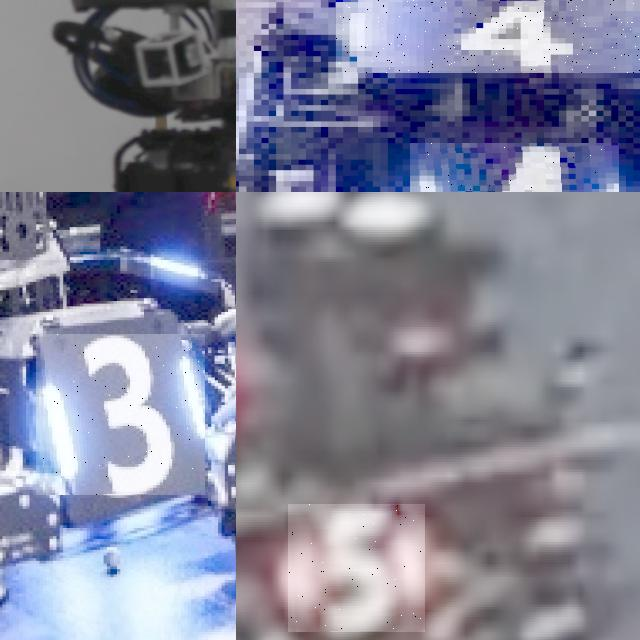B3: (36, 334, 205, 495)
B4: (335, 0, 640, 73), (410, 143, 618, 192)
R5: (288, 504, 425, 632)
